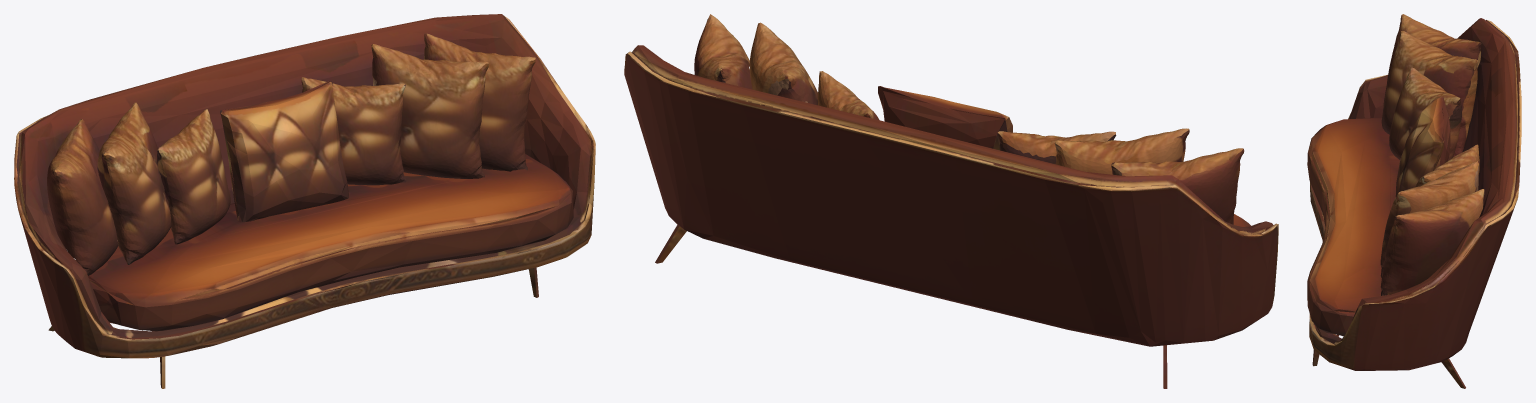
File: edited_mesh.glb
The picture shows the model from 3 angles, left to right: view 1: azimuth 30°, elevation 25°; view 2: azimuth 150°, elevation 25°; view 3: azimuth 270°, elevation 25°; orthographic projection. The views are drawn at different scales.
Visible parts, largest first — view 1: solid_001_wire; view 2: solid_001_wire; view 3: solid_001_wire.
Boxes of the visible parts, x1,y1,x2,y2 form: solid_001_wire: (14, 14, 595, 388); solid_001_wire: (624, 14, 1278, 388); solid_001_wire: (1307, 14, 1521, 388).
Bounding box in the file's own units: 2 × 0.7102 × 0.7886.
Materials: 1 (1 with a texture image).
